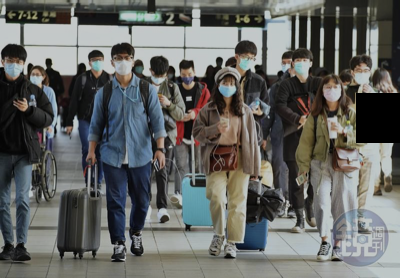with_mask: (2, 56, 24, 78), (113, 52, 133, 76), (217, 78, 238, 98), (354, 64, 371, 86), (323, 82, 342, 101), (238, 52, 256, 70), (293, 56, 310, 75), (90, 55, 104, 72), (151, 70, 166, 85), (180, 70, 195, 84), (29, 70, 42, 85), (280, 59, 293, 74), (133, 60, 144, 74), (166, 68, 174, 78)
